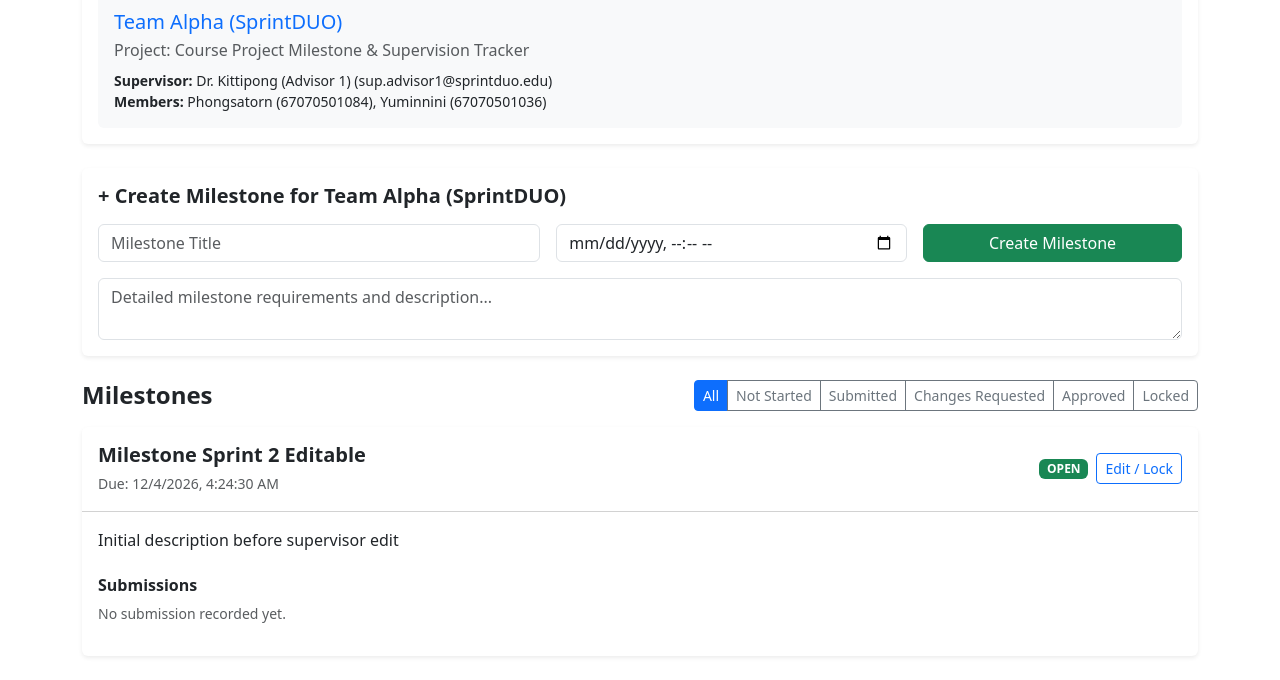
Test: SprintDUO Client UI — TEST-03 & TEST-04 Student Submission & Persisted View › TEST-09 (Sprint 2 F-03a): supervisor edits/locks a milestone and locked milestone hides student submit form
(page scrolled)
Expected: the heading "Milestone Sprint 2 Editable" is shown, [98,443,366,467]
Click the button with test id "milestone-edit-toggle-201" at (1139, 469), box [1096,453,1182,484]
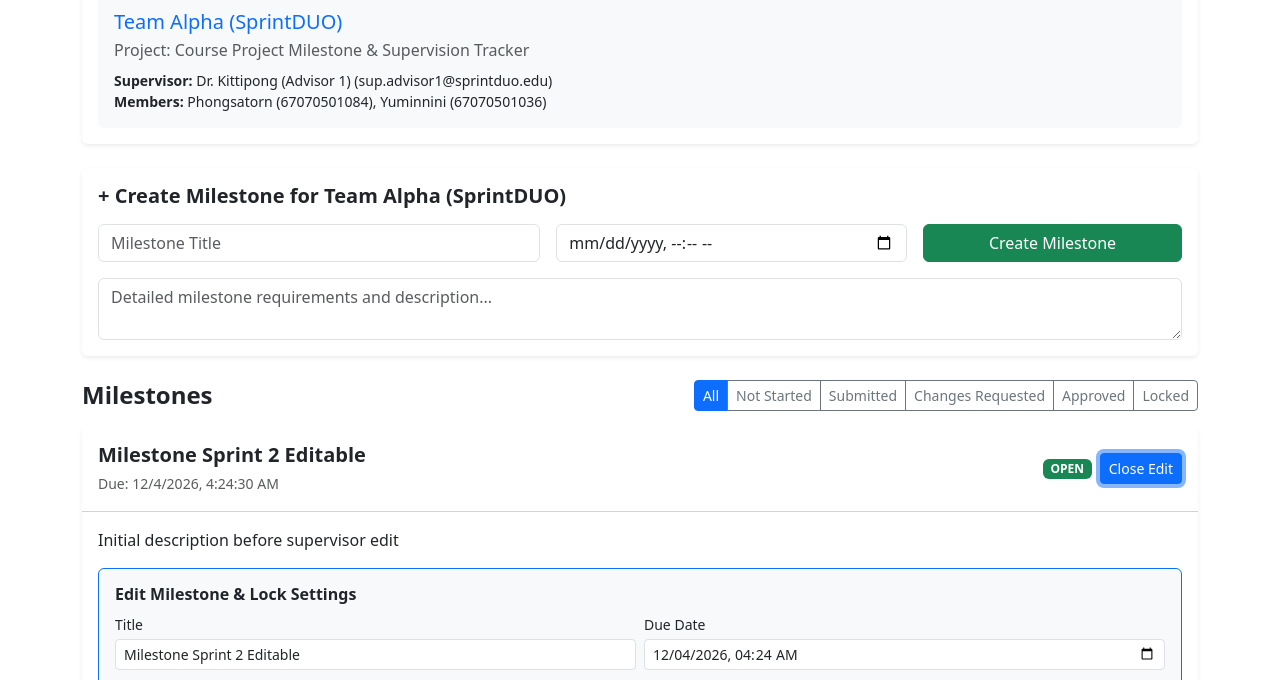
Replace the text in the field with test id "milestone-edit-title-201" with "Milestone Sprint 2 Locked & Updated" at (376, 654), box [115,639,636,670]
(page scrolled)
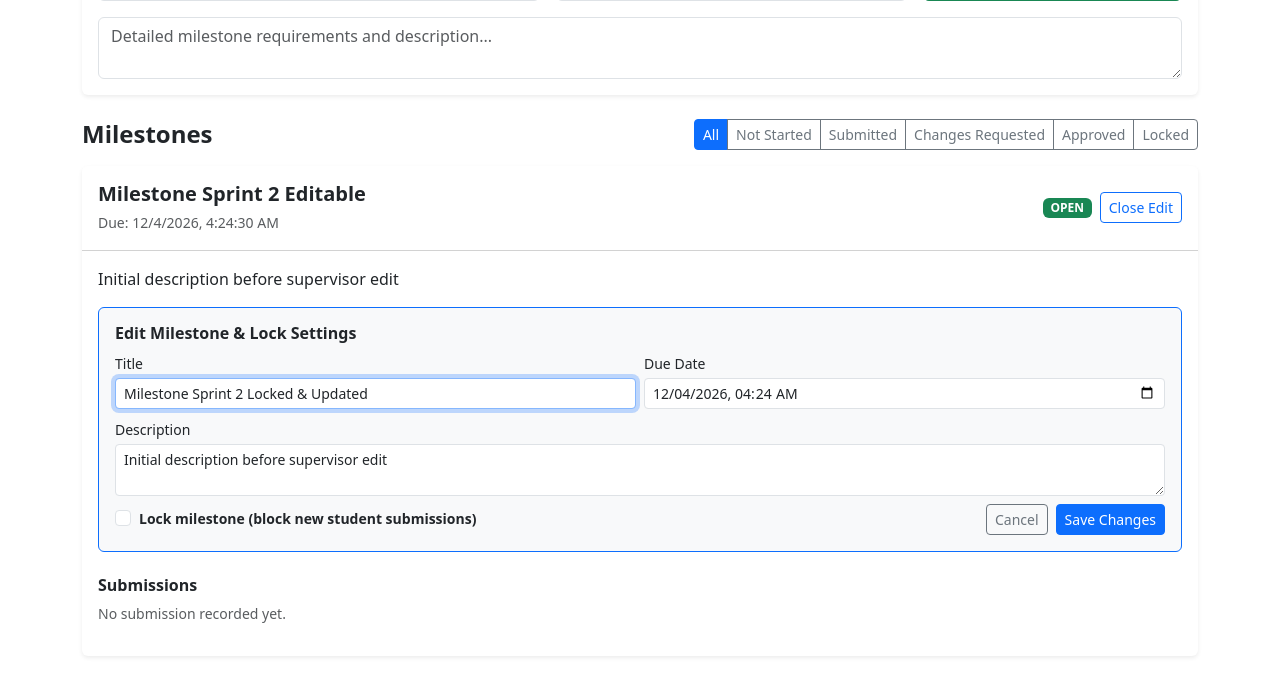
Click the checkbox with test id "milestone-edit-lock-201" at (123, 518), box [115,510,131,526]
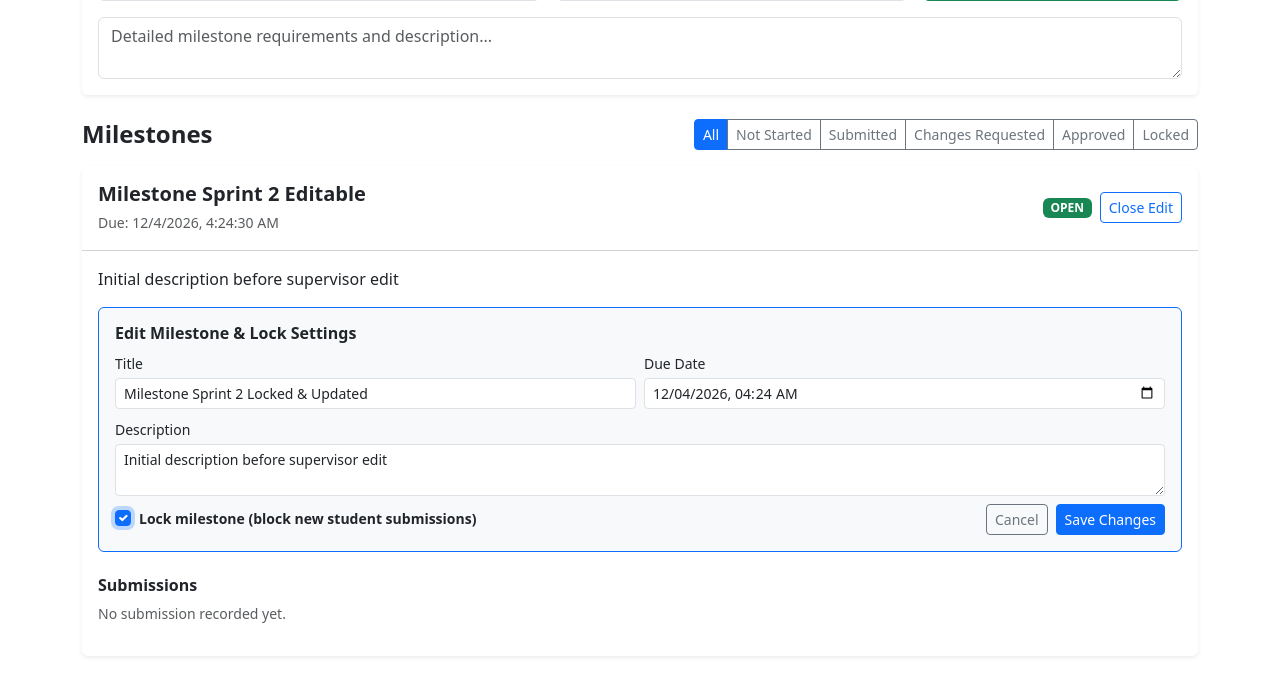
Click the button with test id "milestone-edit-save-201" at (1110, 520), box [1056,504,1165,535]
(page scrolled)
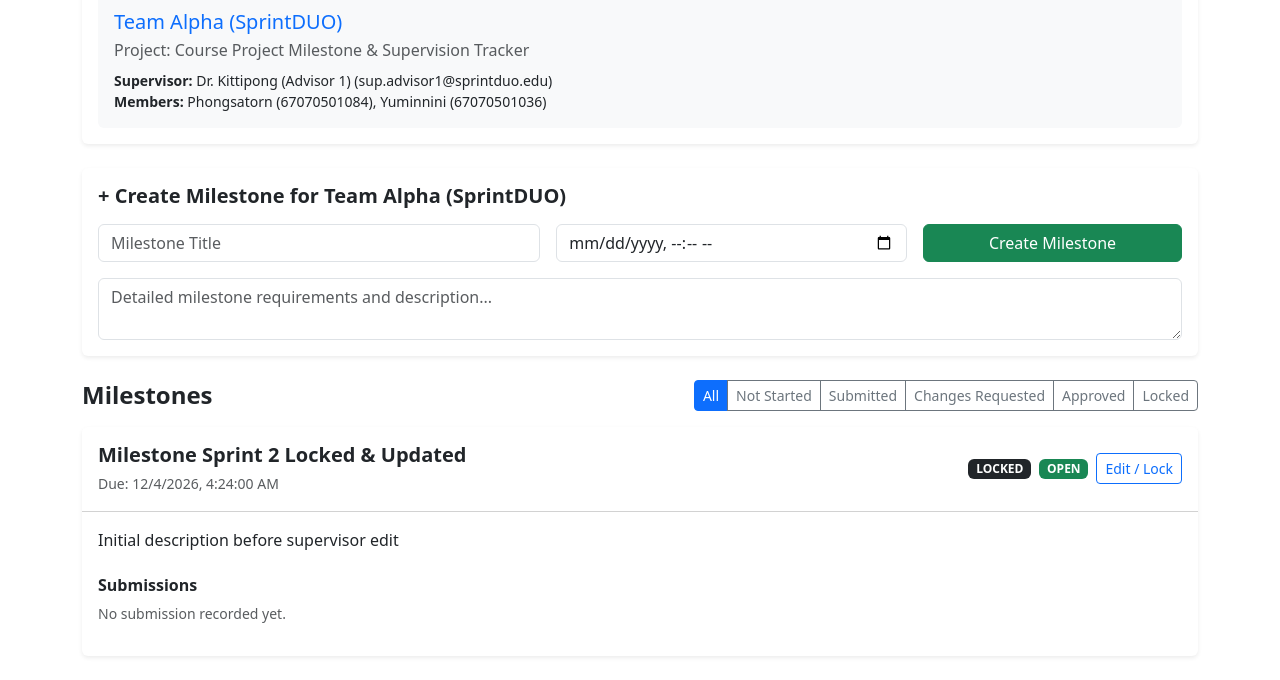
Result: the heading "Milestone Sprint 2 Locked & Updated" is shown at [98,443,466,467]
Result: the text with test id "milestone-locked-badge-201" reads "LOCKED" at [976,460,1024,477]
